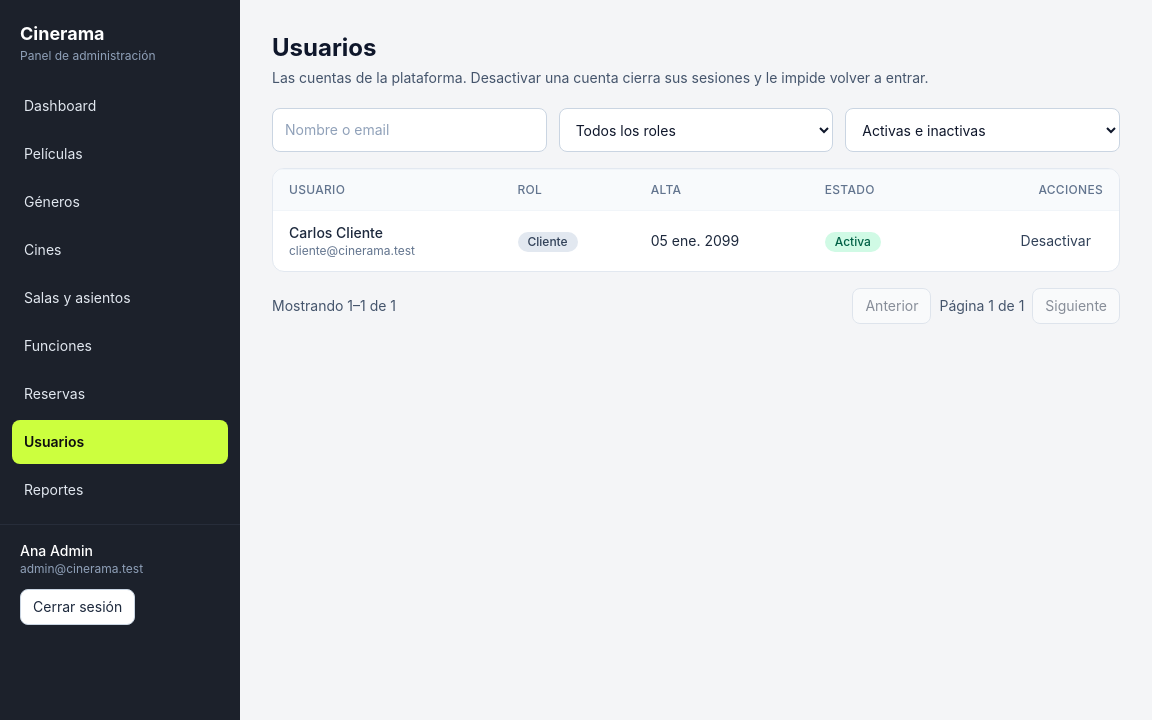
it: Usuarios › desactivar pide confirmación, advierte del cierre de sesiones y recarga la lista
Step 1. Click the button with aria-label "Desactivar la cuenta de Carlos Cliente" → (1056, 241), box [1009,223,1103,259]
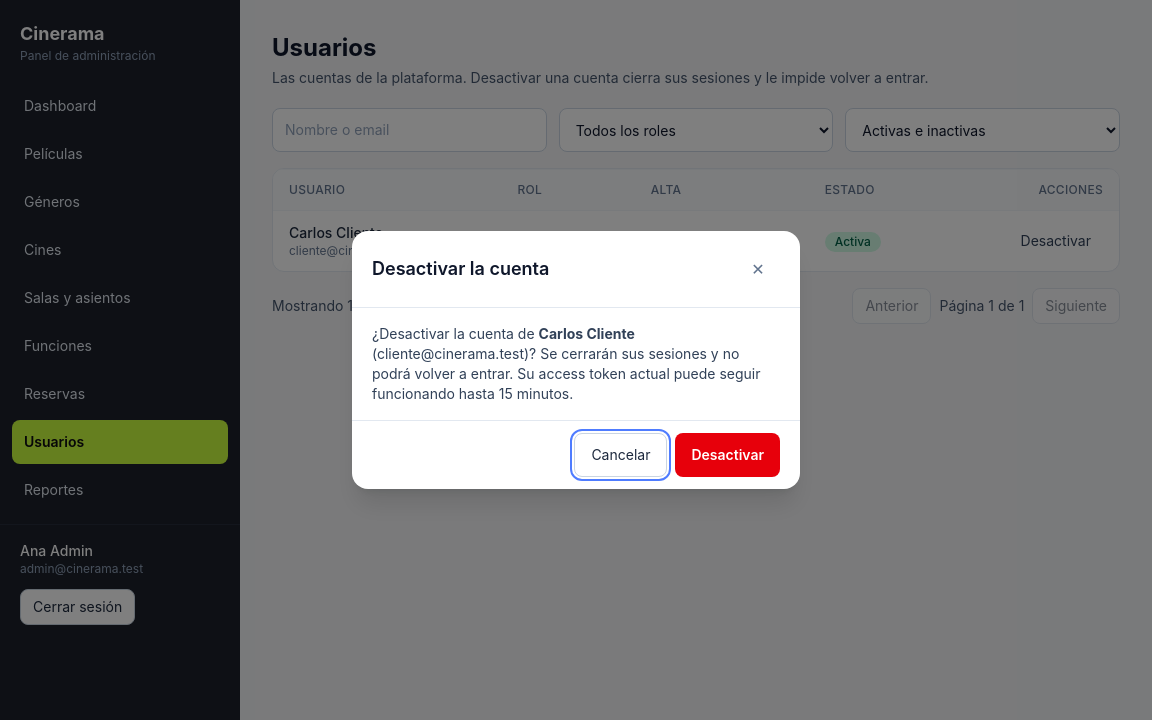
Expected: the dialog "Desactivar la cuenta" shows "Se cerrarán sus sesiones", [372,345,760,402]
Step 2. Click the button "Desactivar" → (728, 455), box [675,433,780,477]
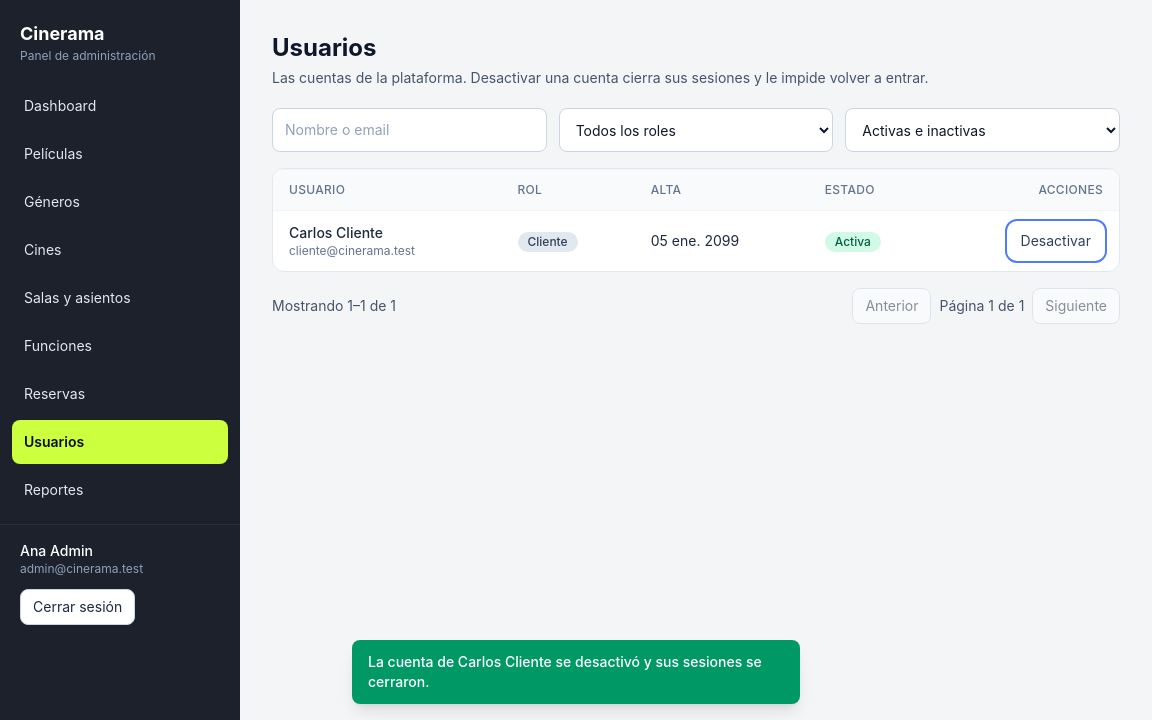
Expected: the text "La cuenta de Carlos Cliente se desactivó y sus sesiones se cerraron." is shown, [352,640,800,704]
